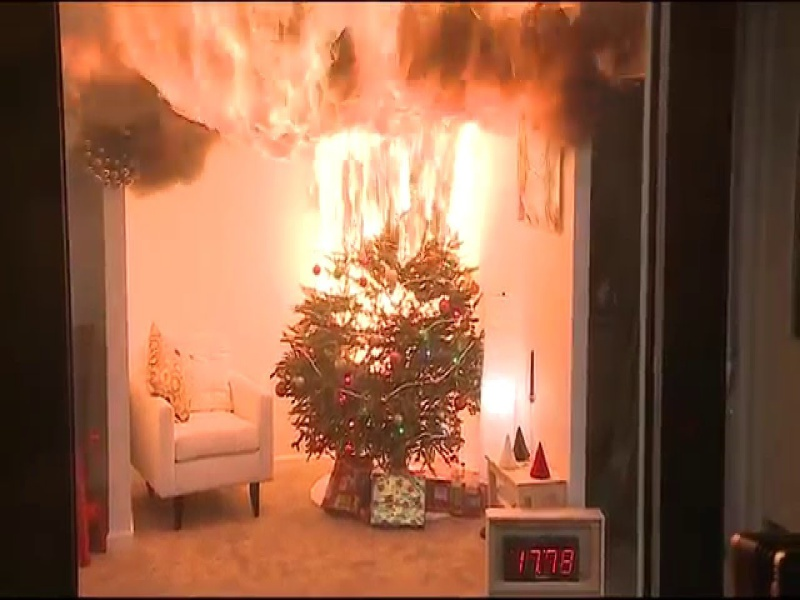fire: (316, 170, 501, 382)
